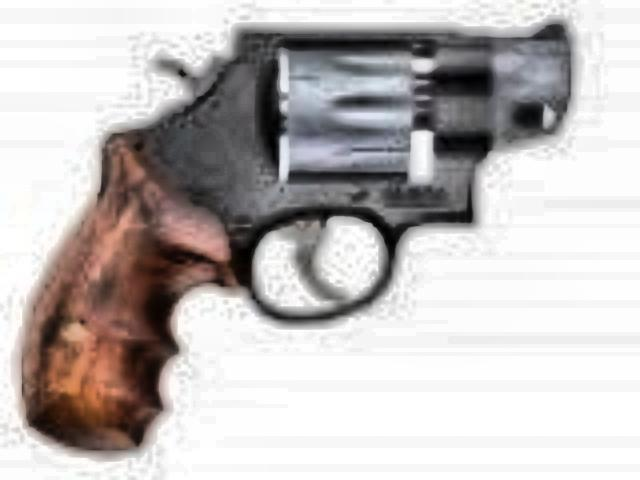pistol: (8, 16, 564, 444)
